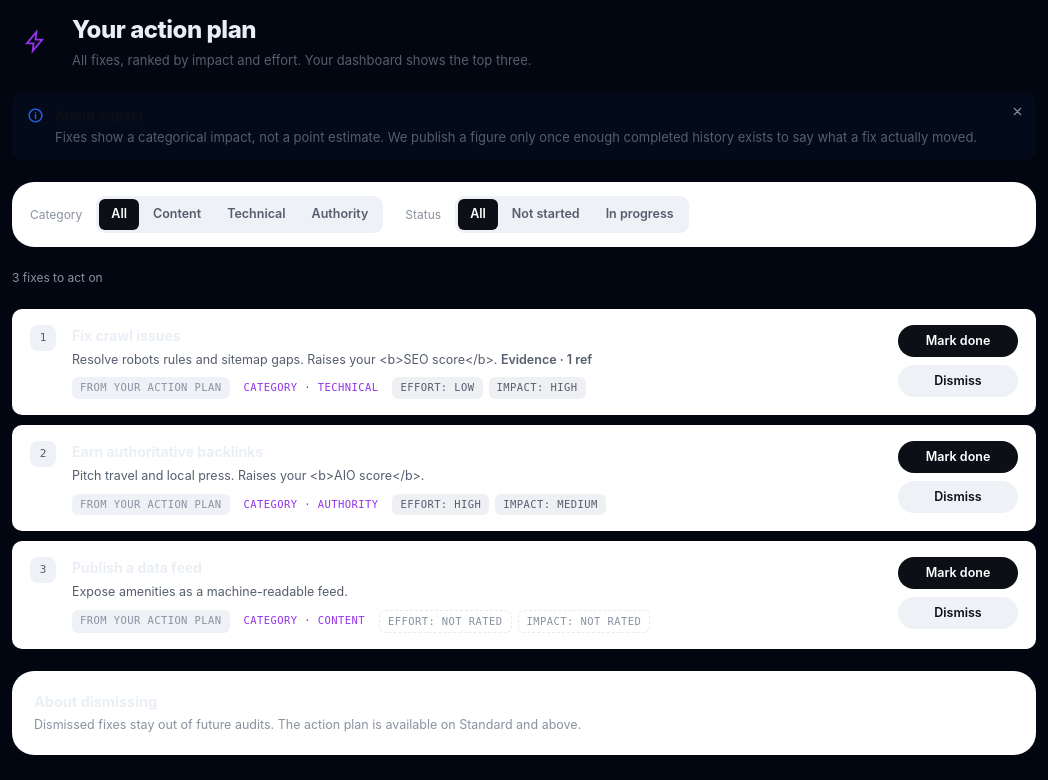
Scenario: fixes page › dismisses via recommendation-decisions with the raw action text
This screenshot has width=1048, height=780.
Click the button "Dismiss" in the row of "Impact: not rated" at point(958, 613), box x1=898 y1=597 x2=1018 y2=629
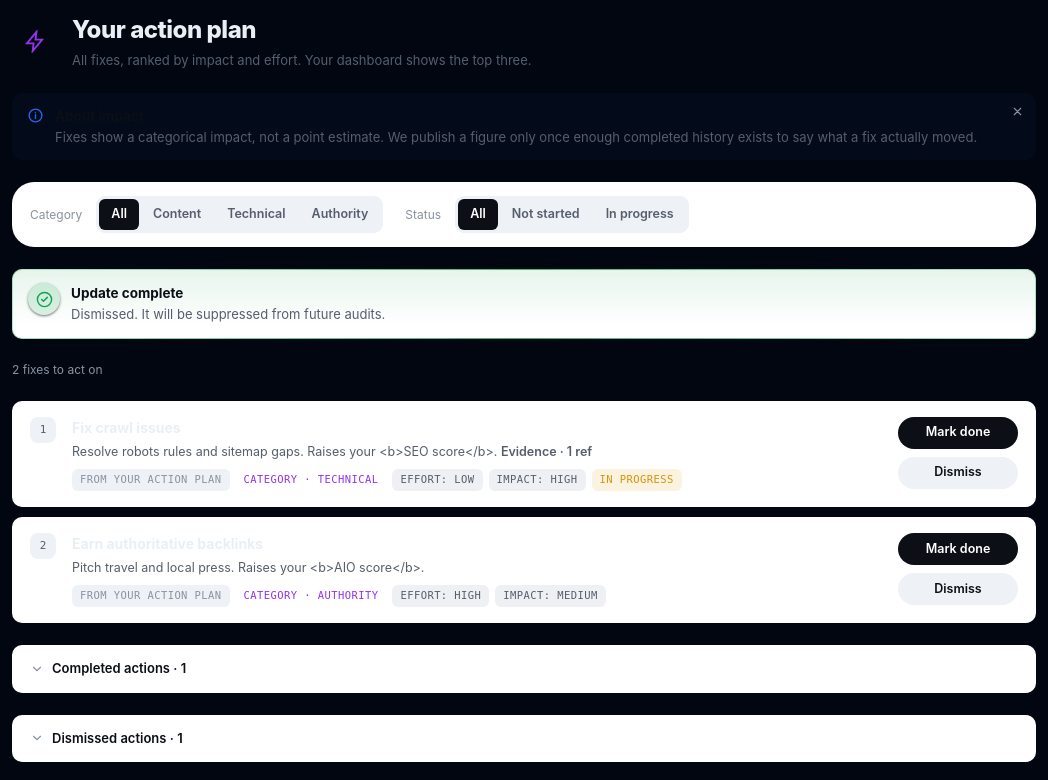
Now the element with test id "fix-advisor-action-2" is gone
